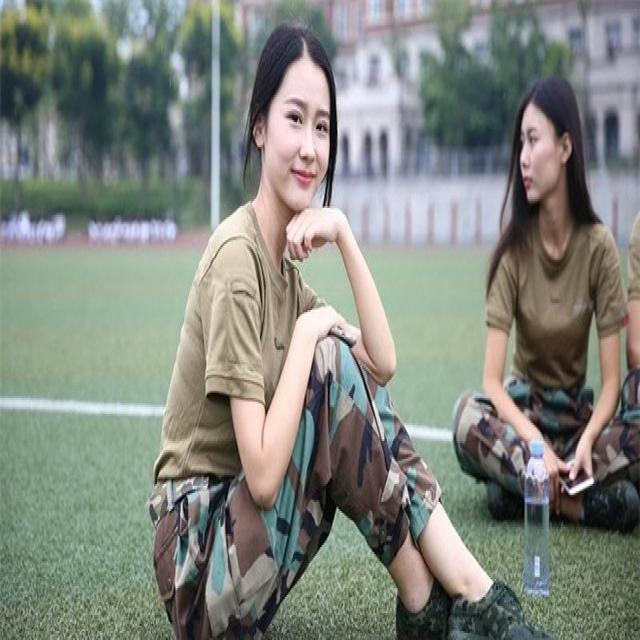Nonhelmet: (240, 20, 340, 213), (505, 63, 591, 221)
